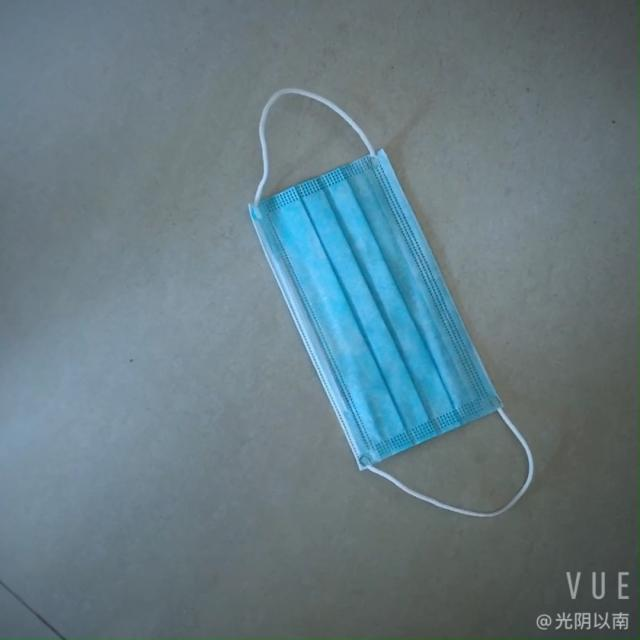non-organic waste: (238, 130, 550, 508)
